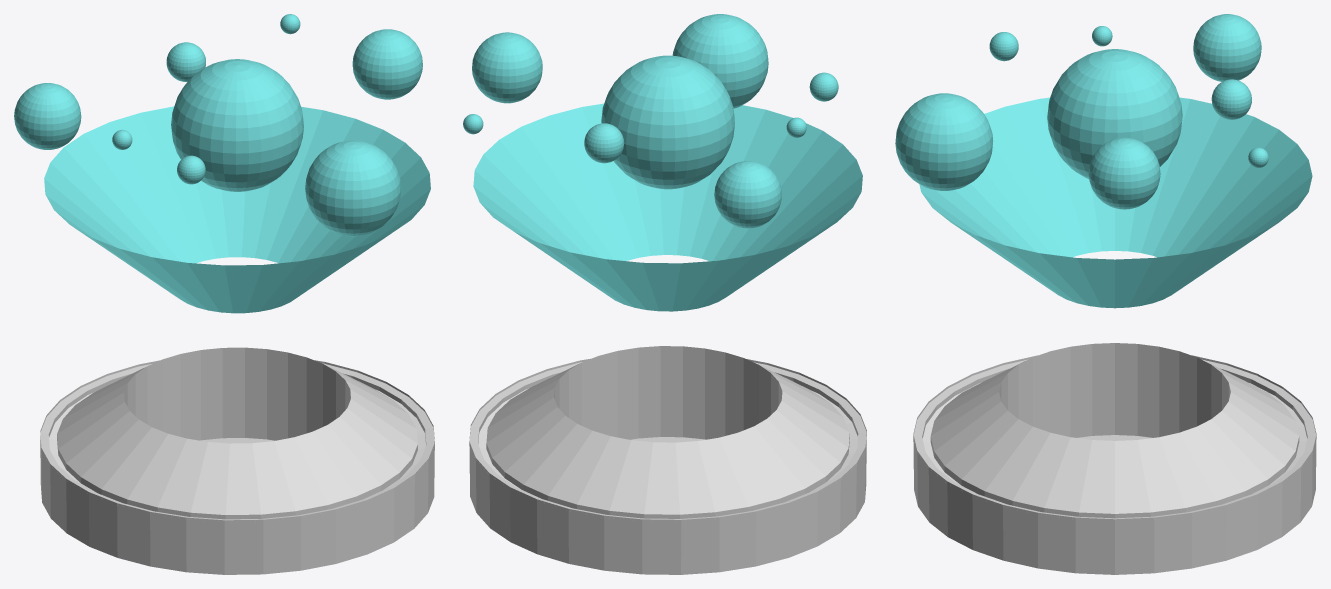
Rendered from obserwatorium_final2.fbx.
3 renders of one model, left to right at view 1: azimuth 30°, elevation 25°; view 2: azimuth 150°, elevation 25°; view 3: azimuth 270°, elevation 25°, orthographic.
Parts seen in each view (by area): view 1: Cylinder.001, Cylinder, Sphere, Sphere.007, Sphere.001, Sphere.003, Sphere.002, Sphere.006; view 2: Cylinder.001, Cylinder, Sphere, Sphere.007, Sphere.001, Sphere.003, Sphere.002, Sphere.006; view 3: Cylinder.001, Cylinder, Sphere, Sphere.007, Sphere.001, Sphere.003, Sphere.002, Sphere.006.
Boxes of the visible parts, bbox=[...] form: Cylinder.001: bbox=[40, 347, 434, 574]; Cylinder: bbox=[44, 106, 430, 313]; Sphere: bbox=[171, 59, 303, 191]; Sphere.007: bbox=[305, 140, 401, 236]; Sphere.001: bbox=[352, 29, 422, 99]; Sphere.003: bbox=[14, 83, 81, 149]; Sphere.002: bbox=[166, 42, 205, 81]; Sphere.006: bbox=[177, 155, 205, 184]; Cylinder.001: bbox=[469, 346, 866, 574]; Cylinder: bbox=[473, 103, 862, 311]; Sphere: bbox=[601, 55, 734, 189]; Sphere.007: bbox=[672, 14, 768, 108]; Sphere.001: bbox=[472, 32, 542, 103]; Sphere.003: bbox=[714, 161, 781, 228]; Sphere.002: bbox=[584, 123, 624, 163]; Sphere.006: bbox=[809, 72, 838, 101]; Cylinder.001: bbox=[913, 343, 1316, 574]; Cylinder: bbox=[919, 97, 1312, 308]; Sphere: bbox=[1047, 49, 1182, 178]; Sphere.007: bbox=[895, 93, 992, 190]; Sphere.001: bbox=[1088, 137, 1160, 209]; Sphere.003: bbox=[1193, 14, 1261, 81]; Sphere.002: bbox=[1211, 79, 1251, 119]; Sphere.006: bbox=[989, 32, 1018, 61].
Size of the model in its own units: 315 by 360 by 316.
